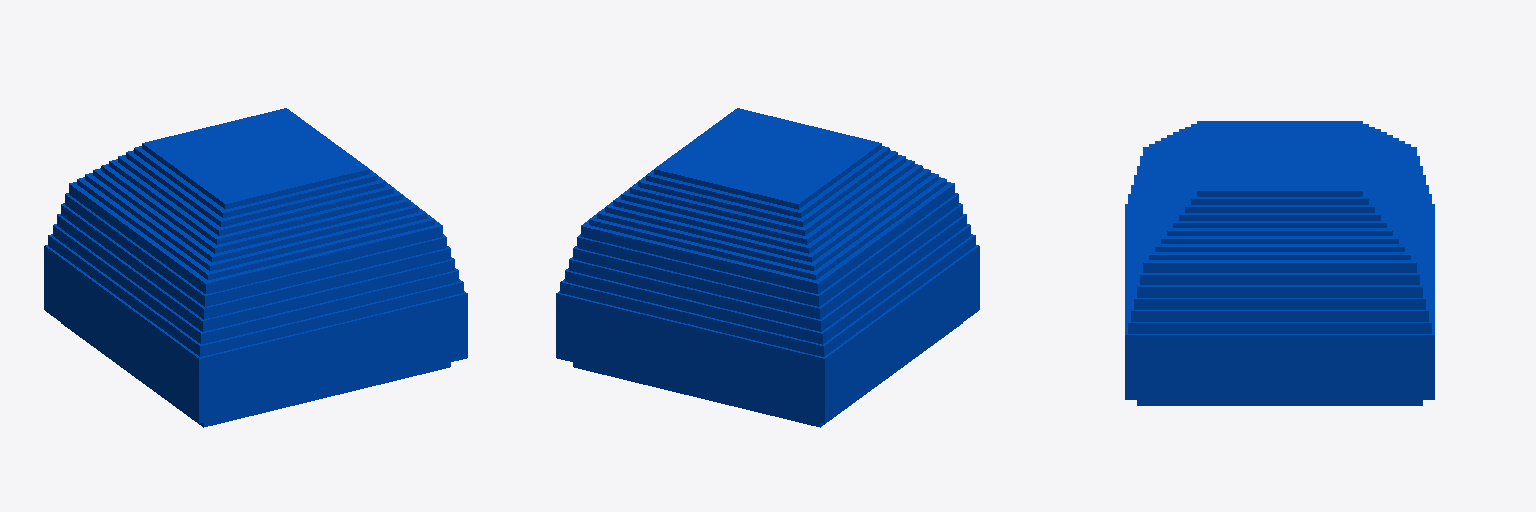
The model's file is enemy1.obj.
The picture shows the model from 3 angles: view 1: azimuth 30°, elevation 25°; view 2: azimuth 150°, elevation 25°; view 3: azimuth 270°, elevation 25°; orthographic projection.
Visible parts, largest first — view 1: obj1; view 2: obj1; view 3: obj1.
Boxes of the visible parts, x1=… form: obj1: x1=44, y1=108, x2=467, y2=427; obj1: x1=556, y1=108, x2=979, y2=427; obj1: x1=1125, y1=121, x2=1434, y2=405.
Size of the model in its own units: 13 by 9.25 by 13.